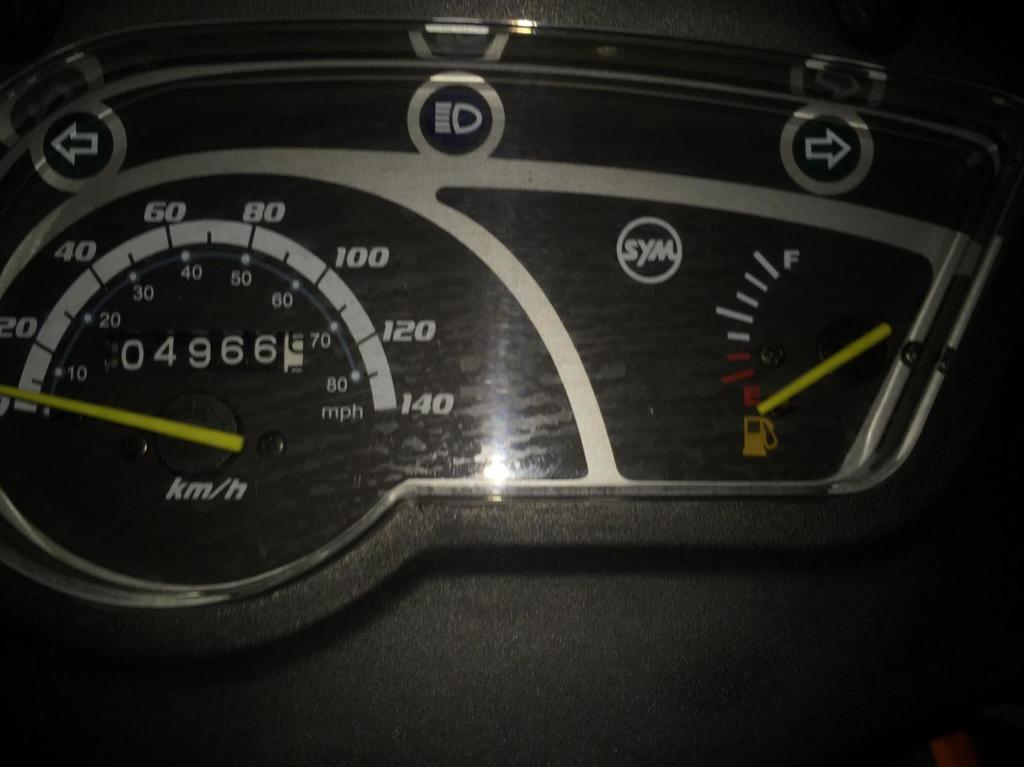0: (119, 335, 144, 372)
4: (152, 334, 178, 366)
6: (252, 332, 280, 367), (219, 333, 245, 366), (288, 331, 308, 357)
9: (186, 335, 214, 370)
odometer: (111, 327, 311, 382)
